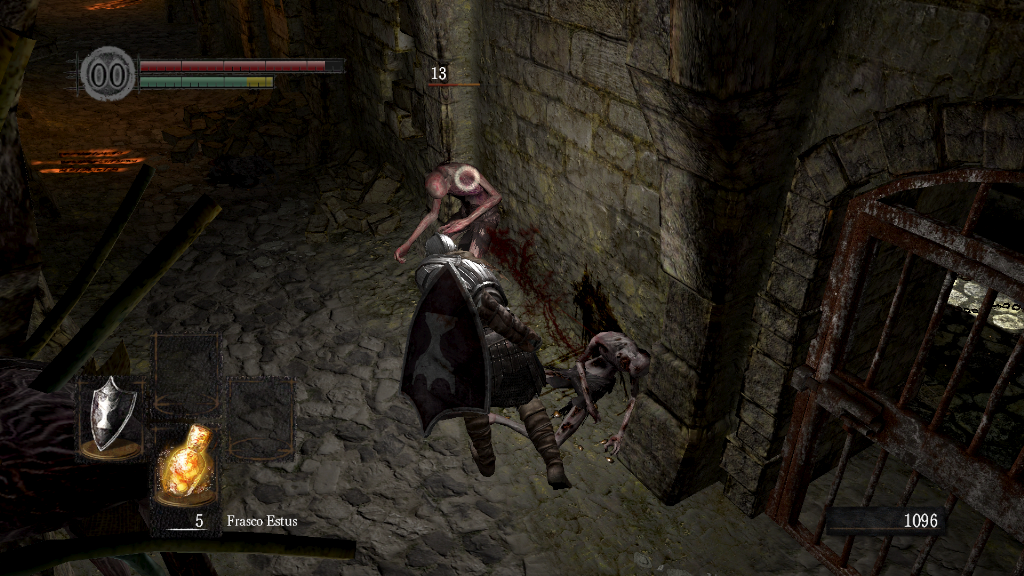health: (138, 58, 343, 71)
hollow: (396, 162, 506, 266)
humanity: (80, 45, 136, 102)
player: (398, 231, 577, 491)
souls: (825, 506, 945, 536)
stamina: (138, 74, 274, 88)
